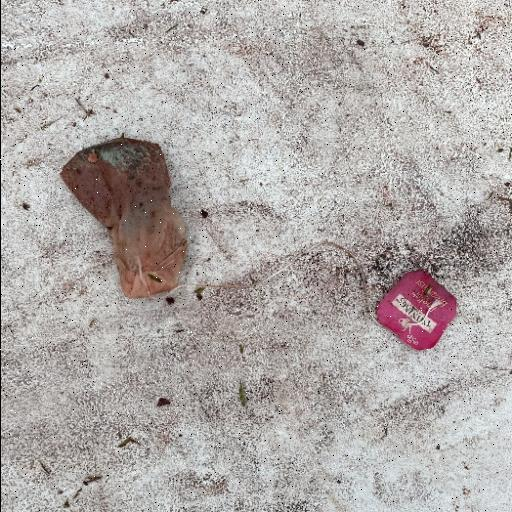Waste: (58, 135, 188, 299), (374, 268, 458, 351)
